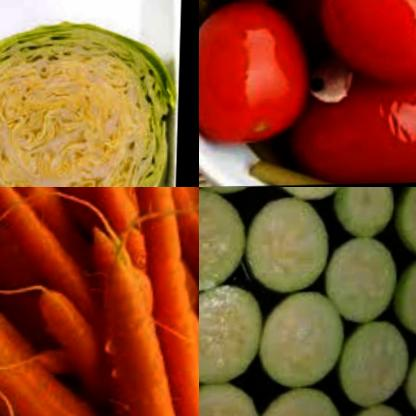cabbage: (0, 5, 175, 187)
carrot: (0, 187, 199, 416)
tomato: (199, 0, 320, 147), (291, 79, 416, 184), (328, 0, 416, 80)
vegetable marrow: (251, 290, 356, 395), (245, 190, 350, 294), (199, 282, 278, 392), (326, 321, 416, 416), (322, 242, 410, 329), (199, 187, 267, 297), (326, 187, 405, 234), (242, 382, 351, 416), (378, 253, 416, 345), (199, 383, 281, 416), (390, 187, 416, 280)
